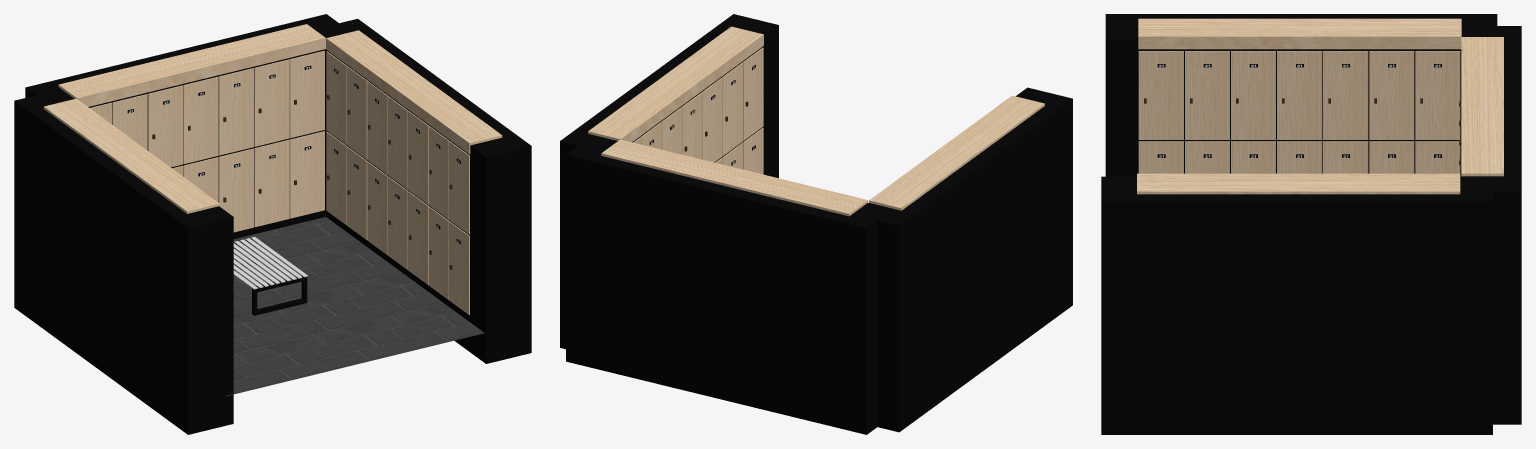
Rendered from locker_room.glb.
The picture shows the model from 3 angles, left to right: view 1: azimuth 30°, elevation 25°; view 2: azimuth 150°, elevation 25°; view 3: azimuth 270°, elevation 25°; orthographic projection. The views are drawn at different scales.
Visible parts, largest first — view 1: locker room; view 2: locker room; view 3: locker room.
Part boxes in pixels (bbox=[...]): locker room: bbox=[14, 14, 531, 434]; locker room: bbox=[560, 14, 1072, 434]; locker room: bbox=[1101, 14, 1521, 434].
Bounding box in the file's own units: 20.83 × 12.2 × 19.7.
6 materials, 3 textured.
